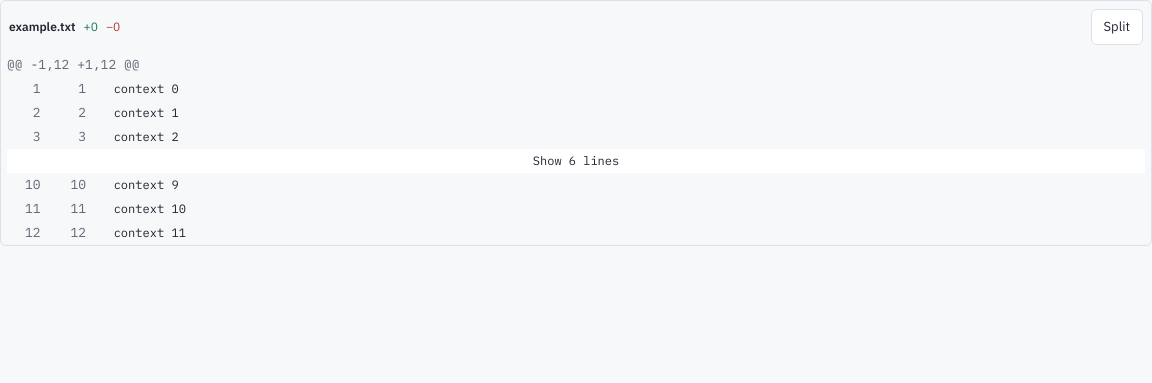
Scenario: diff renderer › keeps a folded hunk open when switching unified and split modes
This screenshot has width=1152, height=383.
Click the button "Show 6 lines". click: (576, 161)
box: 7,149 -> 1145,173
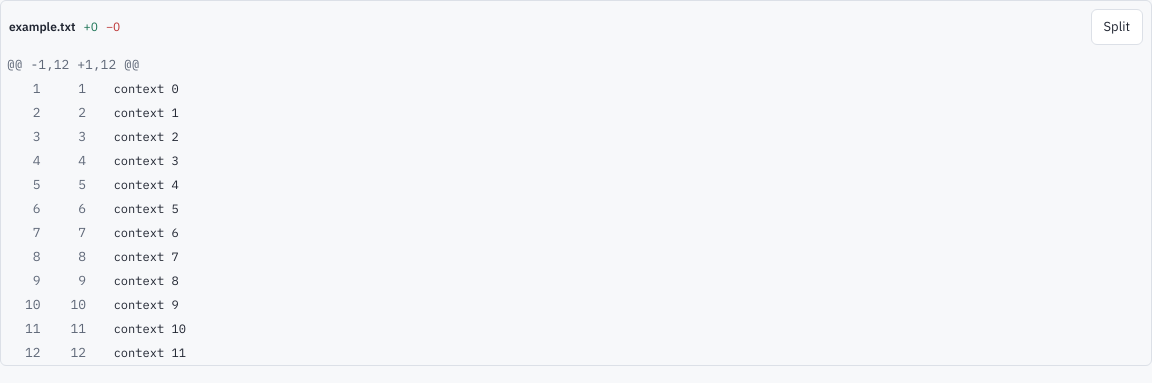
Click the button with aria-label "Switch to split". click: (1117, 27)
box: 1090,9 -> 1143,45
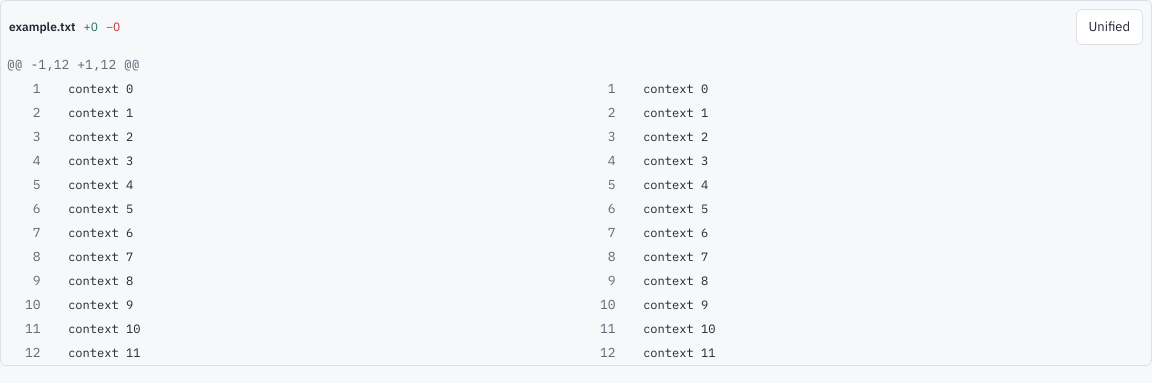
Expected: the text "context 5" is shown 2 times, 68,201 -> 133,216; 643,201 -> 708,216
